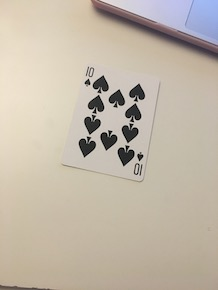TenOfSpades: (58, 61, 164, 186)
